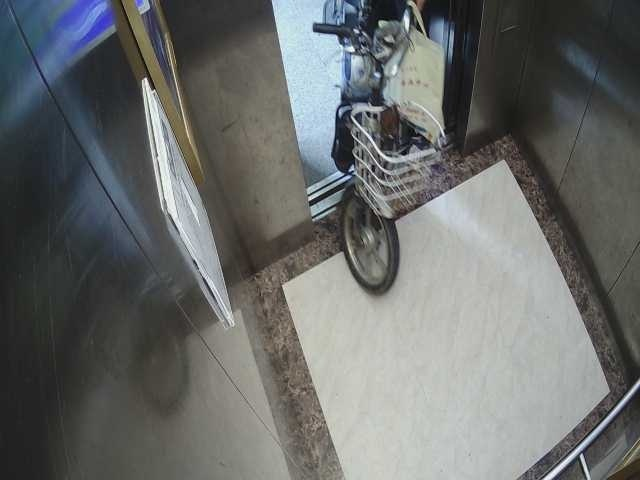emotor: (311, 2, 443, 298)
